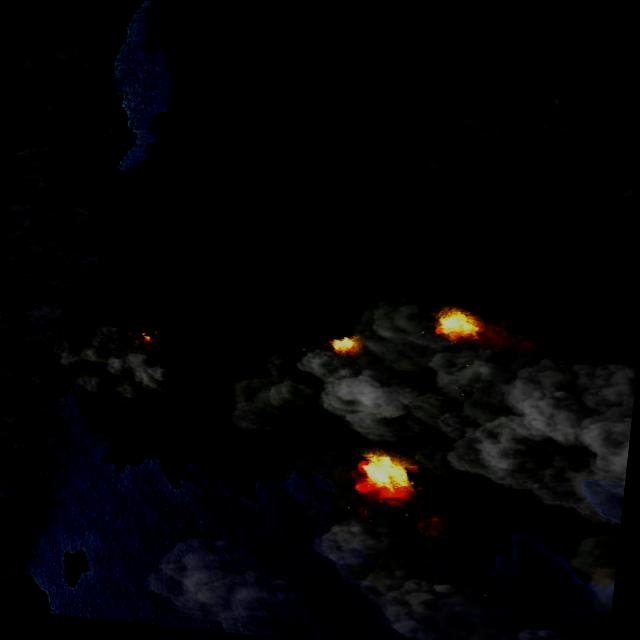fire: (355, 451, 417, 494), (434, 307, 482, 340), (330, 335, 360, 355), (136, 328, 159, 342)
smoke: (220, 278, 640, 517), (136, 472, 599, 640), (48, 321, 176, 412), (568, 532, 619, 619)
